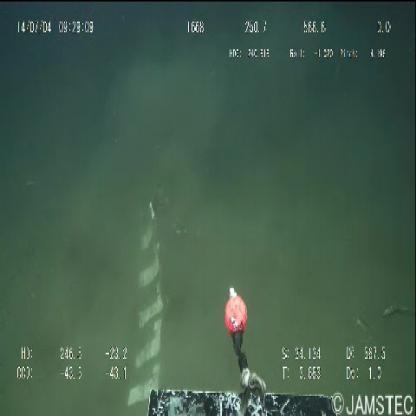Rác: (127, 196, 164, 410)
